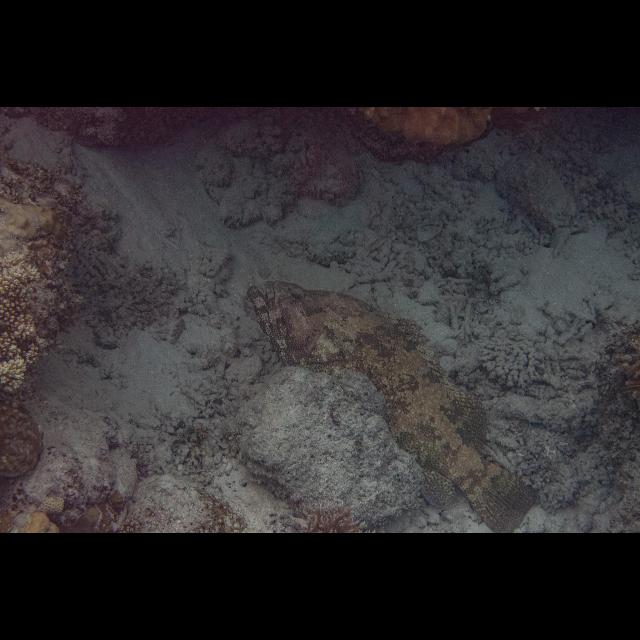Groupers: (250, 277, 540, 533)
